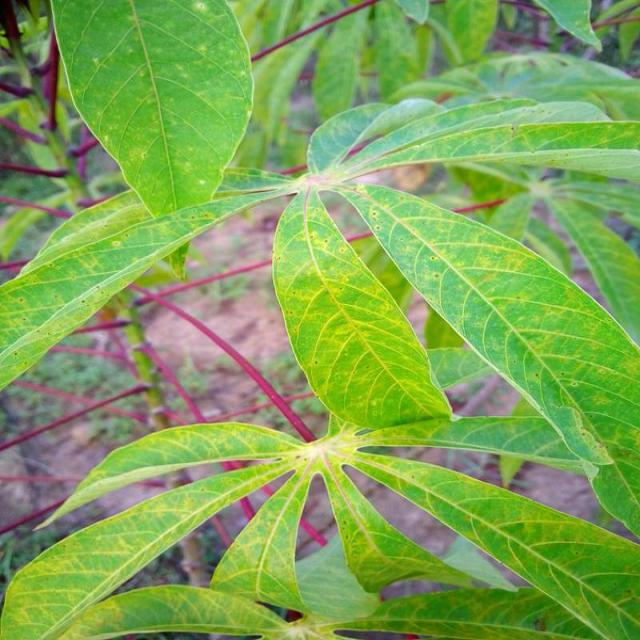cassava leaf: (2, 1, 639, 637), (326, 178, 640, 539), (50, 0, 255, 224), (272, 180, 454, 432)
